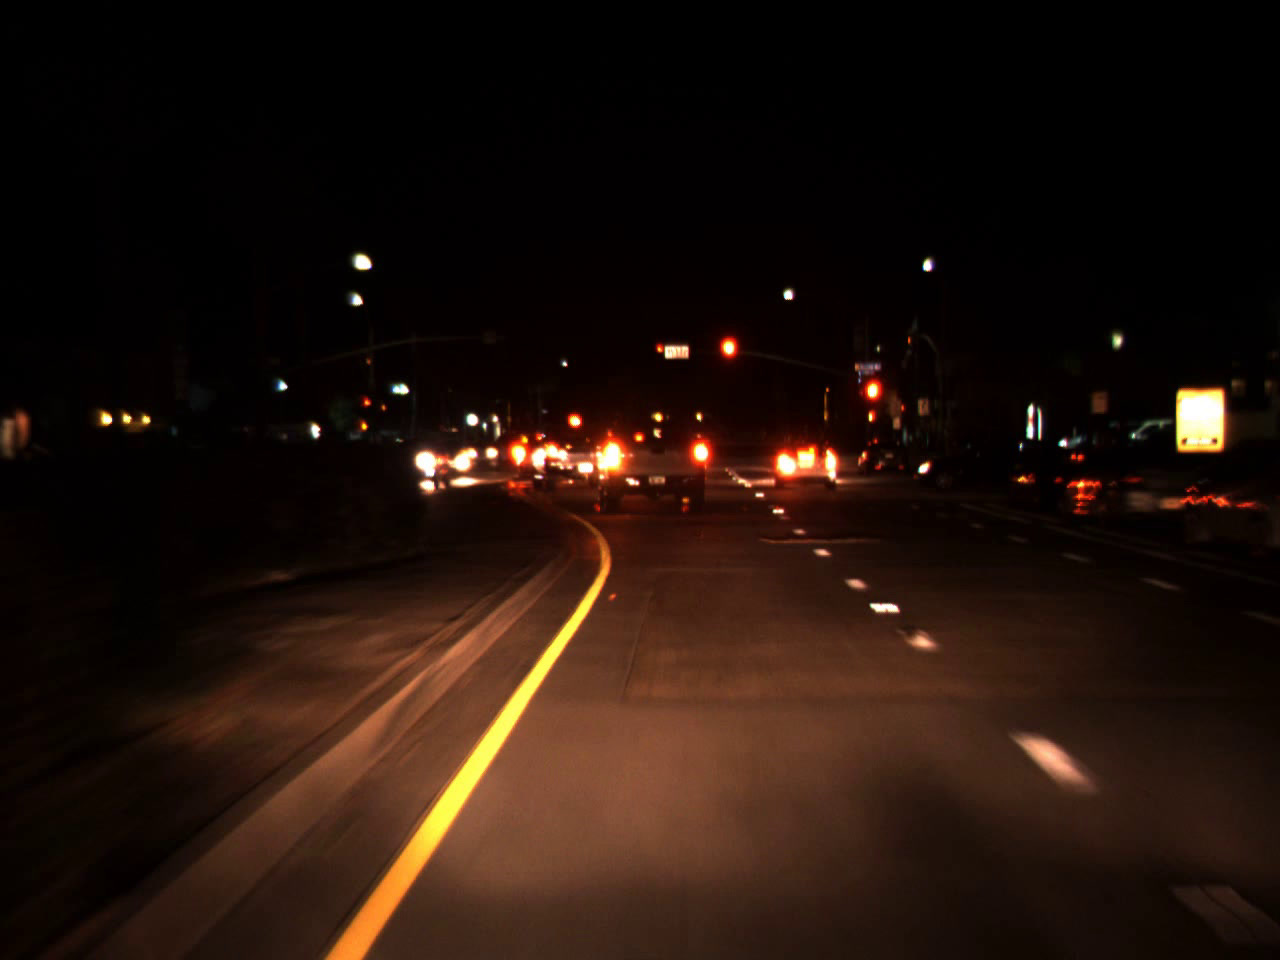stop: (860, 375, 885, 429), (717, 333, 741, 387), (362, 396, 371, 417), (656, 343, 665, 361)
